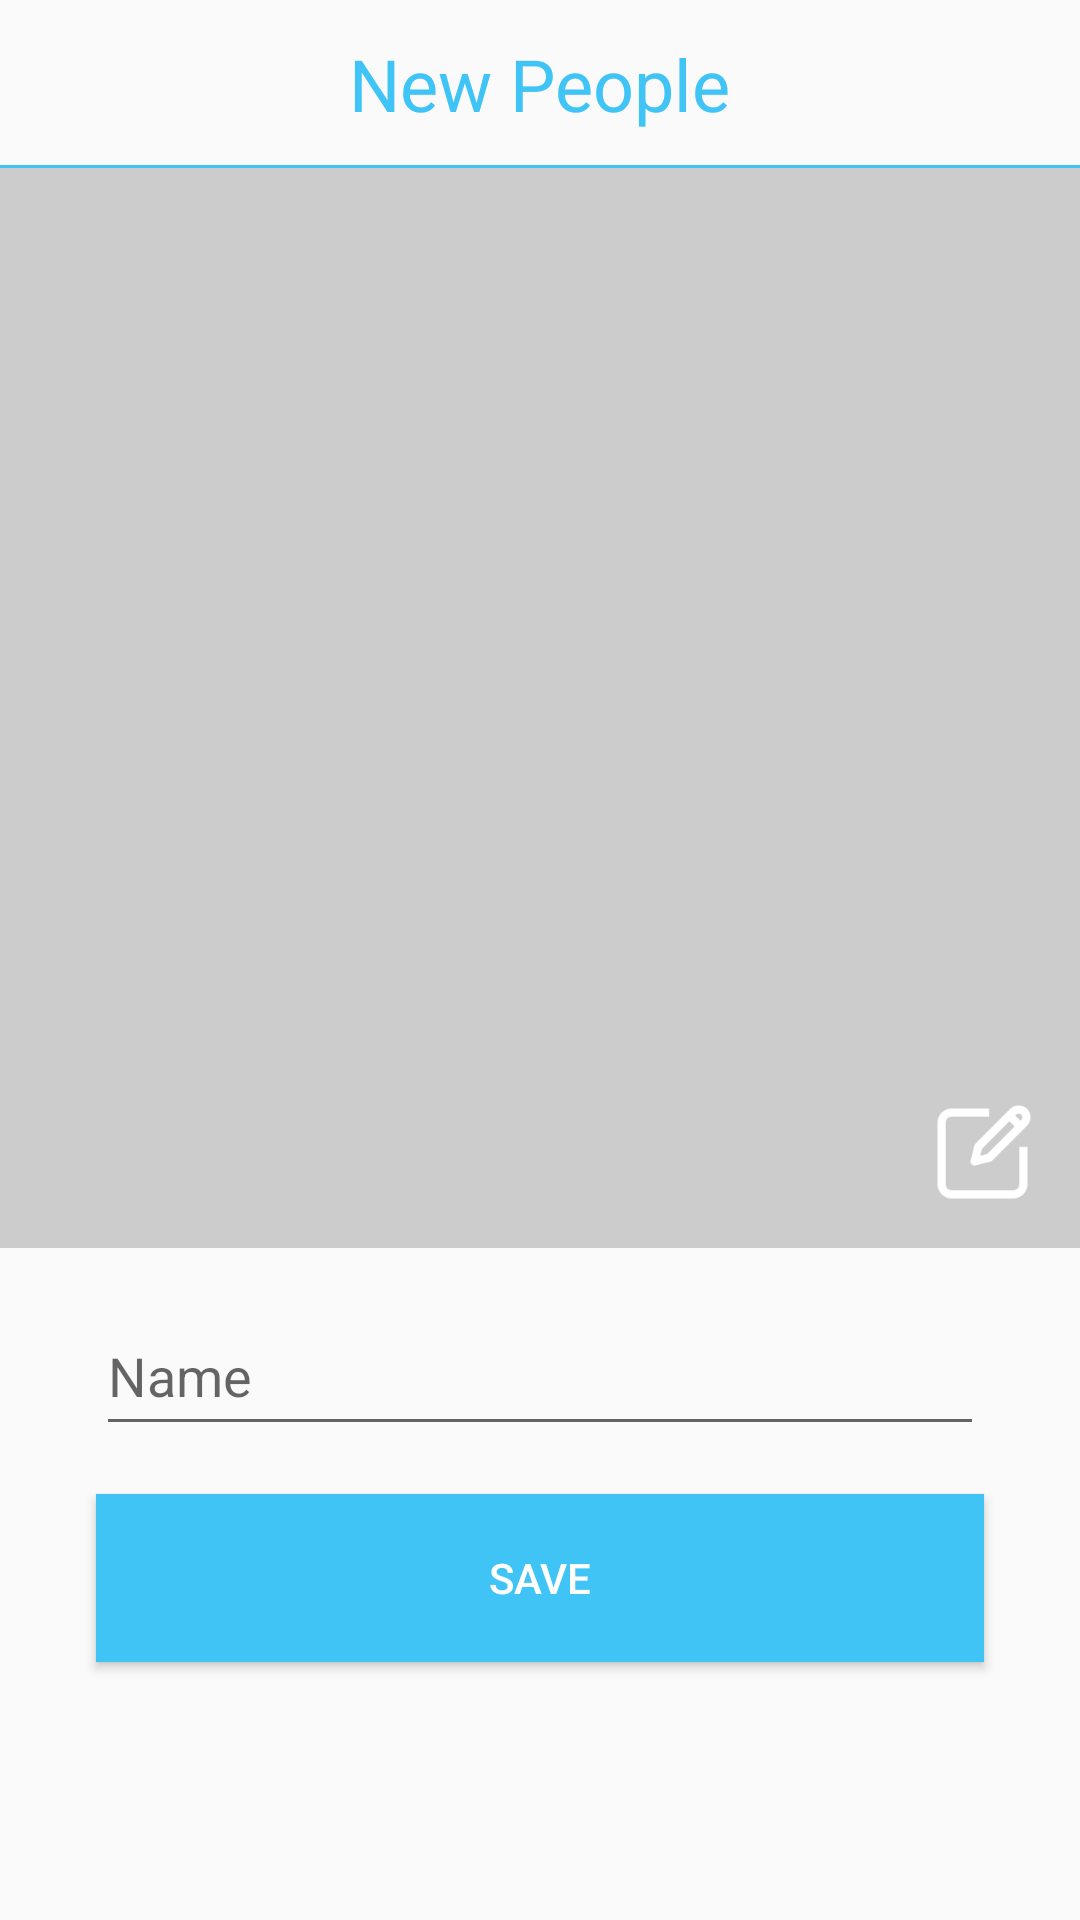

Icons on this 1080 x 1920 Android screen, each with its box as detection(x1, y1, x2, y2):
edit: detection(937, 1106, 1030, 1199)
